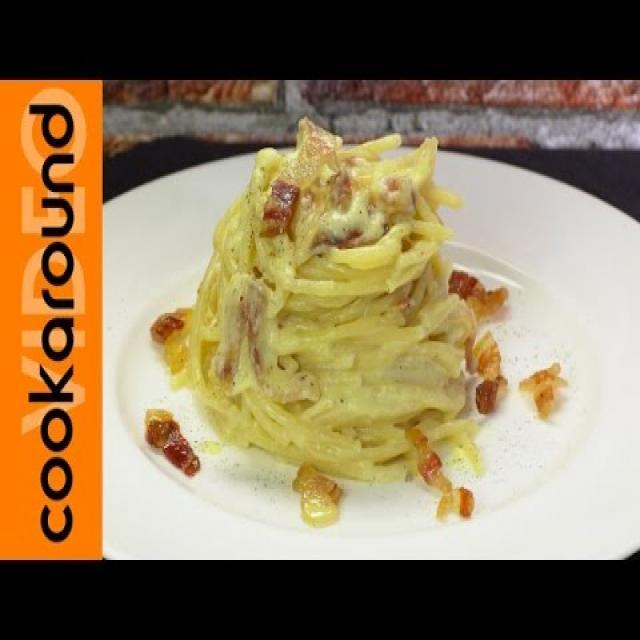Pasta with carbonara sauce: (175, 100, 591, 541)
